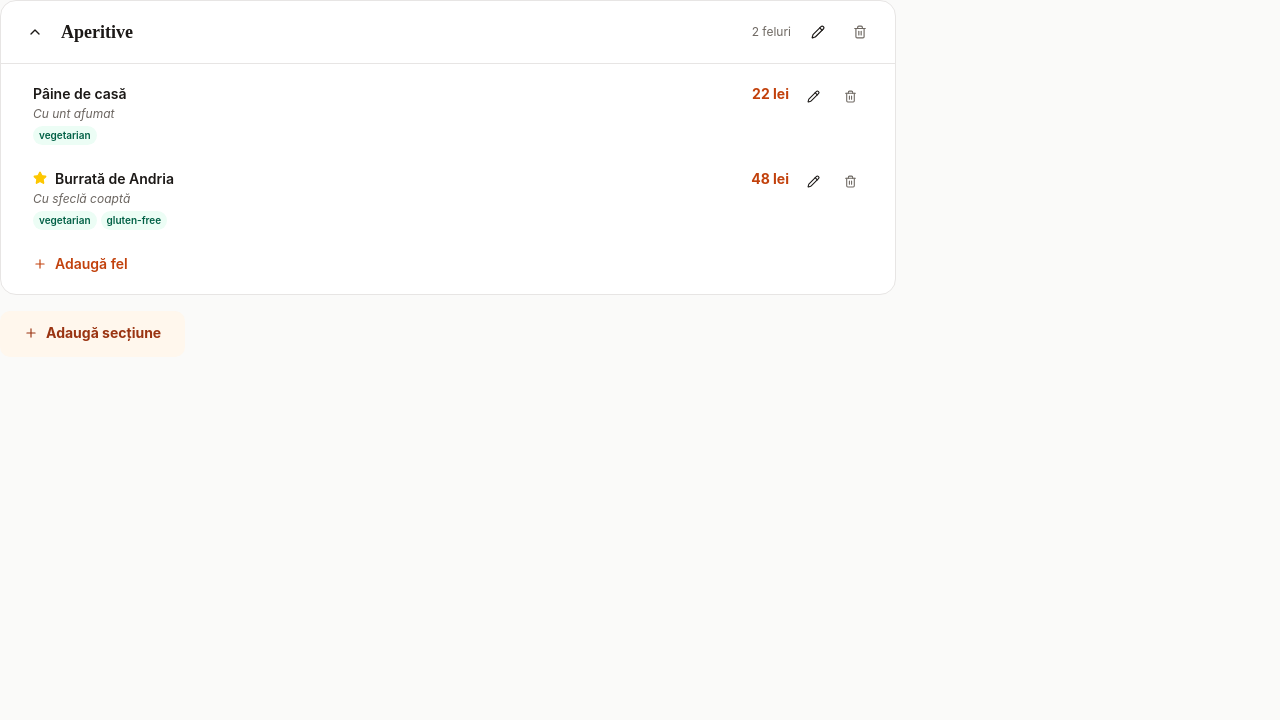
Scenario: MenuEditor edit-dialog › shows the right dish after editing a different one (no stale state)
Note: Edit dish A, close, then edit dish B.
Click the button named "Editează felul" next to "22 lei": (814, 96) x1=801 y1=84 x2=826 y2=109
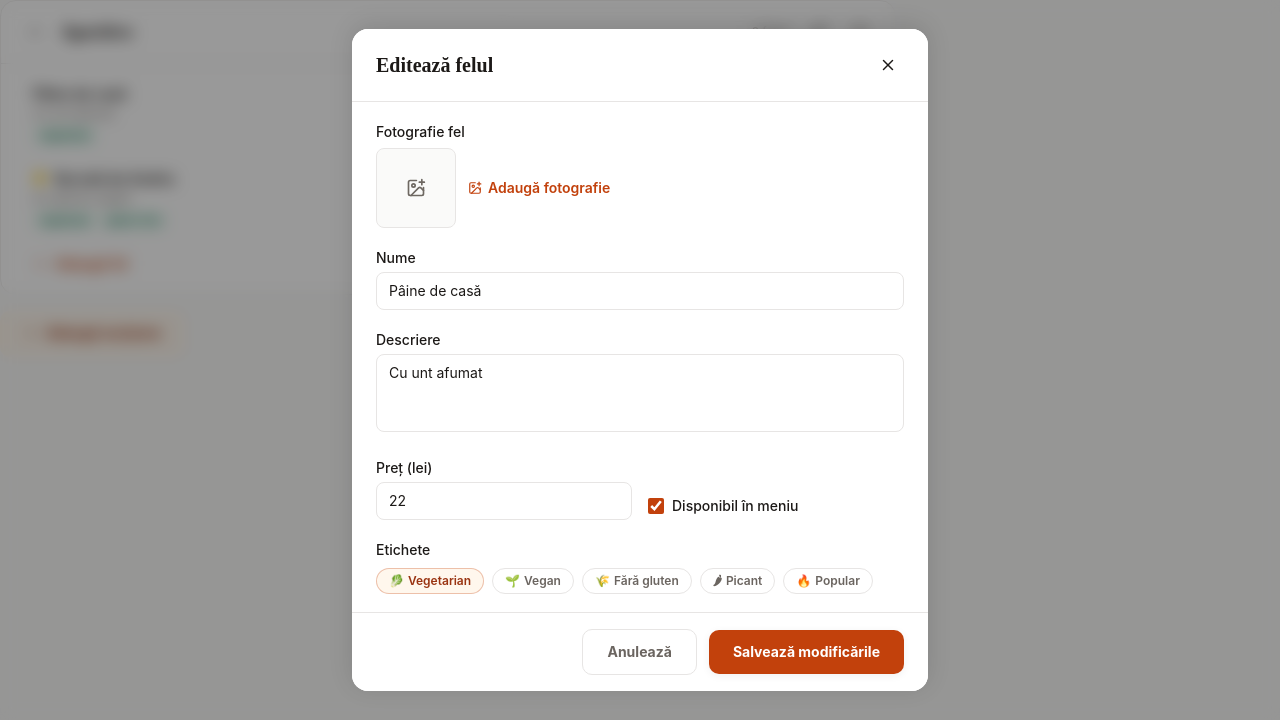
expect the field labelled "Nume" holds "Pâine de casă": met, box x1=376 y1=272 x2=904 y2=310
Click the button "Anulează": (640, 652) x1=582 y1=629 x2=697 y2=675
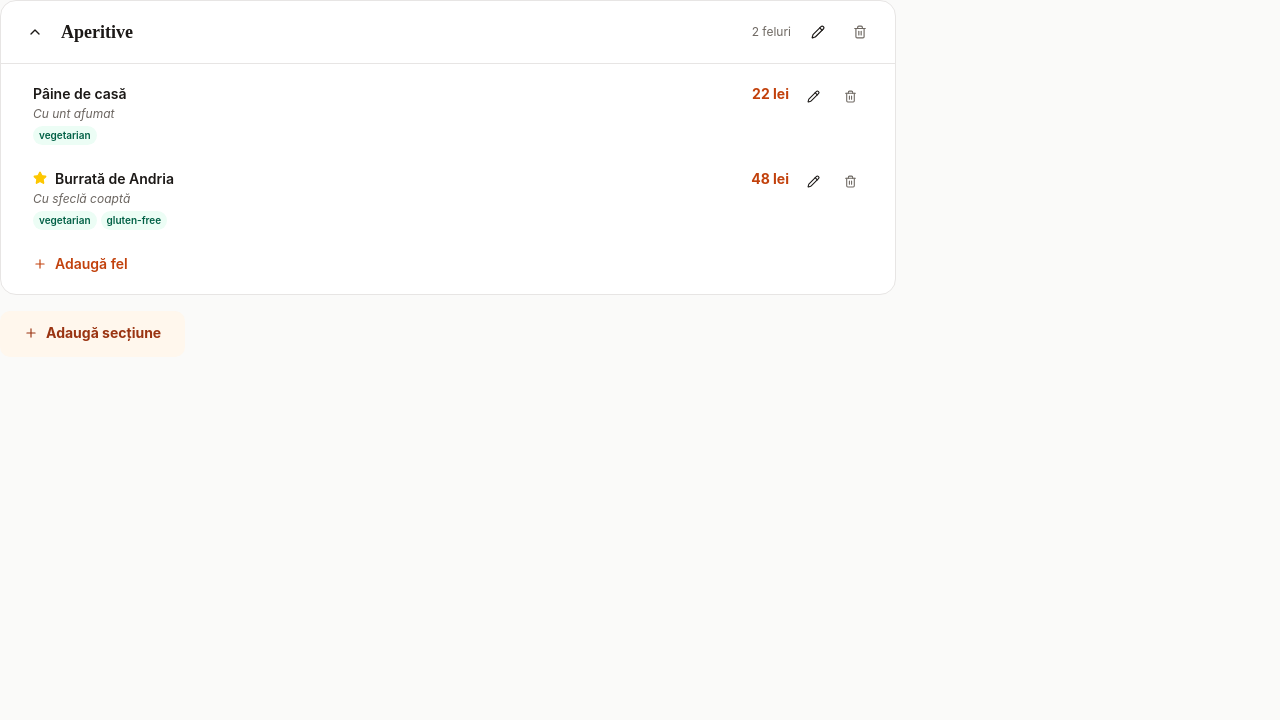
Click the button named "Editează felul" next to "48 lei": (814, 182) x1=801 y1=169 x2=826 y2=194
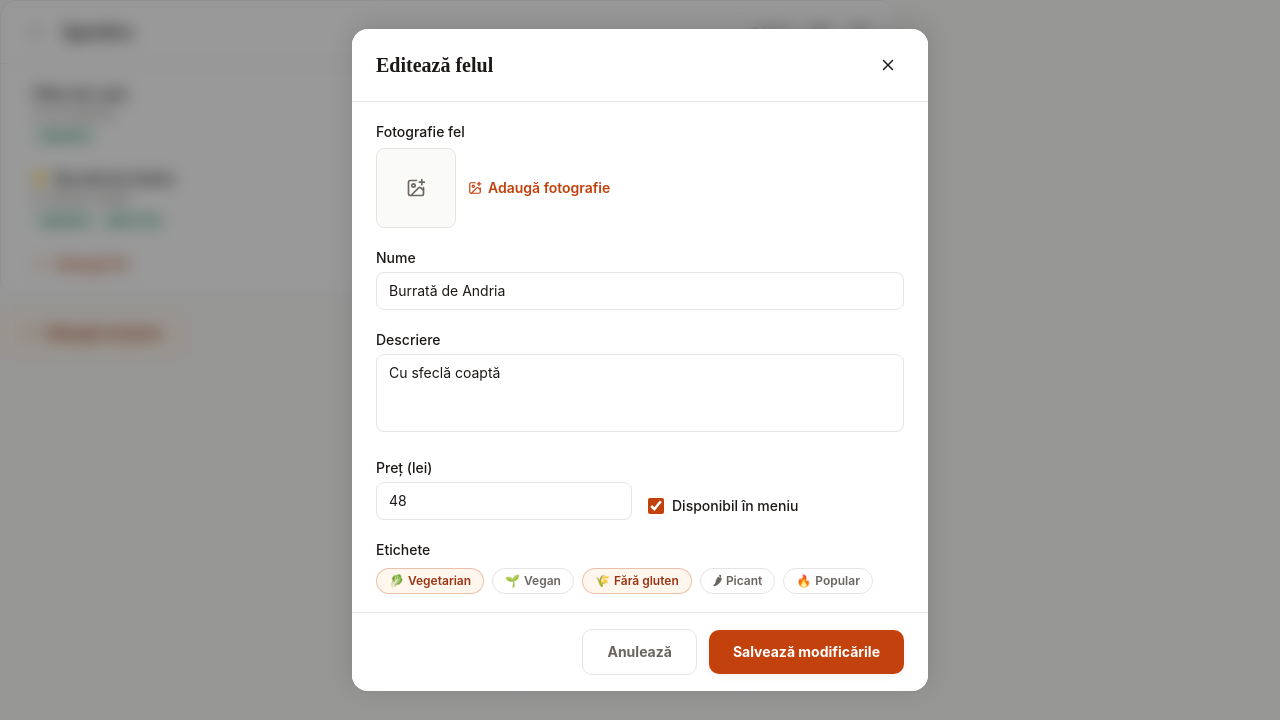
expect the field labelled "Nume" holds "Burrată de Andria": met, box x1=376 y1=272 x2=904 y2=310
